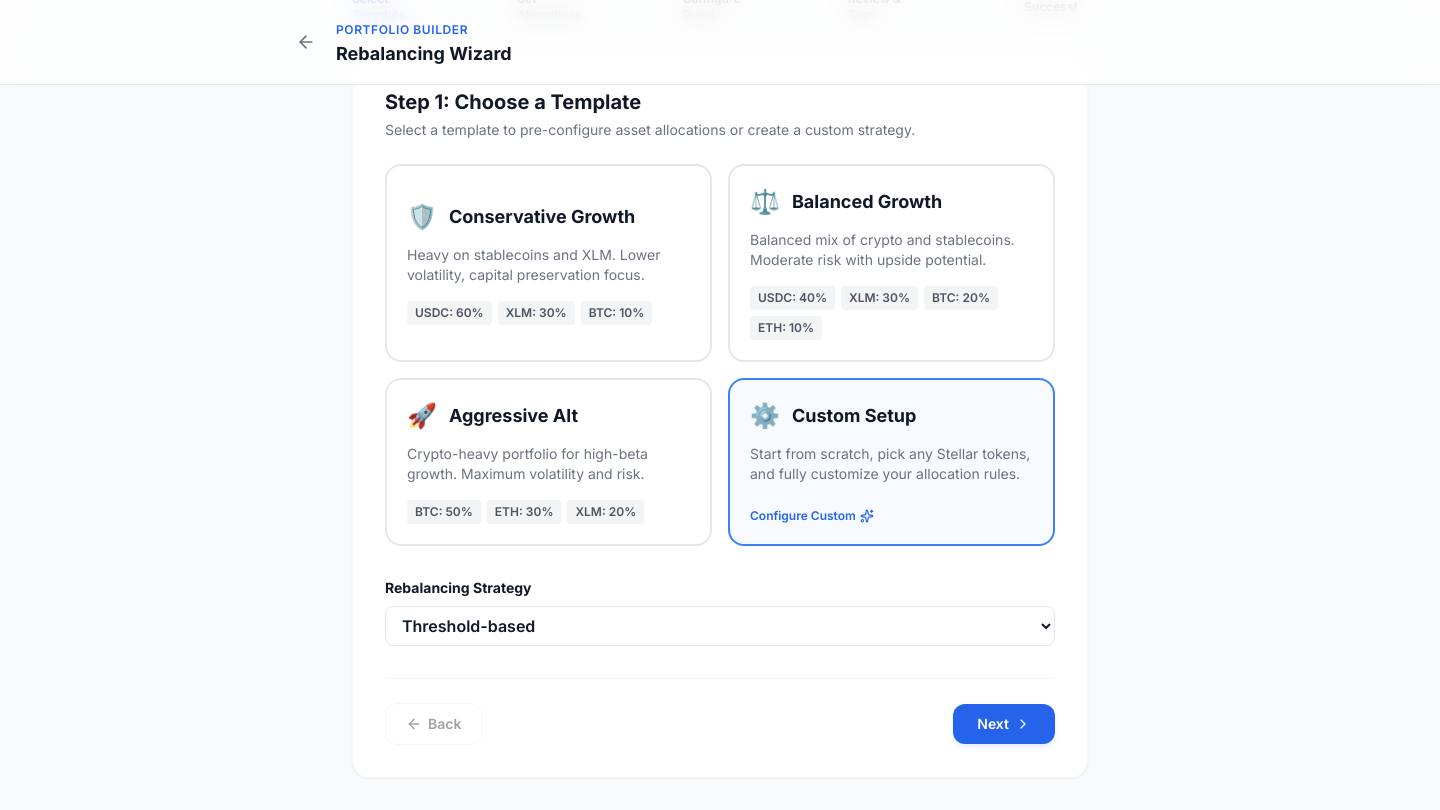
Test: PortfolioWizard Page › validates Step 2 live allocation sum and blocks navigation if sum is not 100%
(page scrolled)
// Go to Step 2
Click the button "Next" at (1004, 724), box [953, 704, 1055, 744]
(page scrolled)
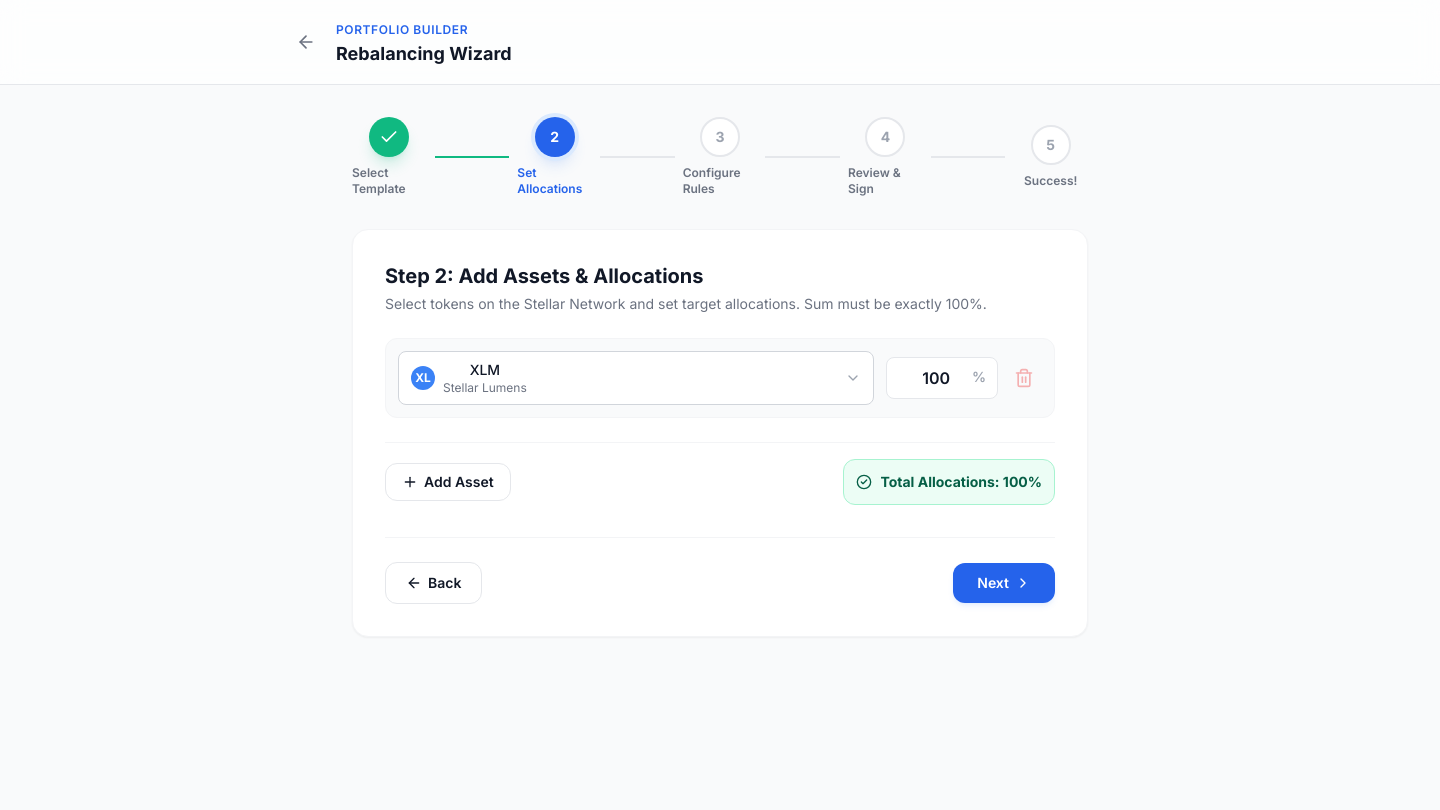
Result: the text "Total Allocations: 100%" is shown at [843, 459, 1055, 505]
// Update XLM to 50%
Replace the text in the number field with placeholder "0" with "50" at (942, 378), box [886, 357, 998, 399]
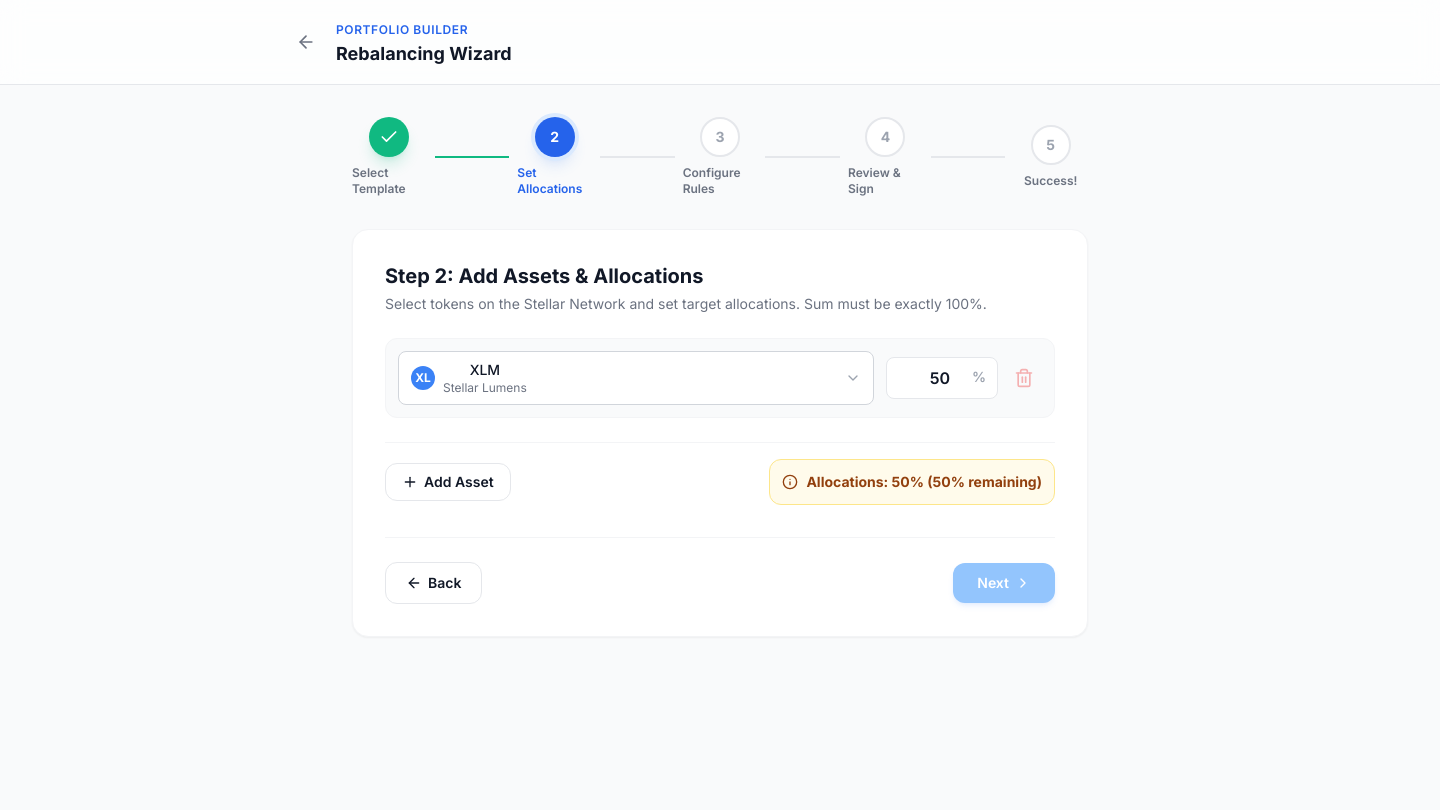
Result: the text "Allocations: 50% (50% remaining)" is shown at [769, 459, 1055, 505]
Result: the button "Next" is disabled at [953, 563, 1055, 603]
